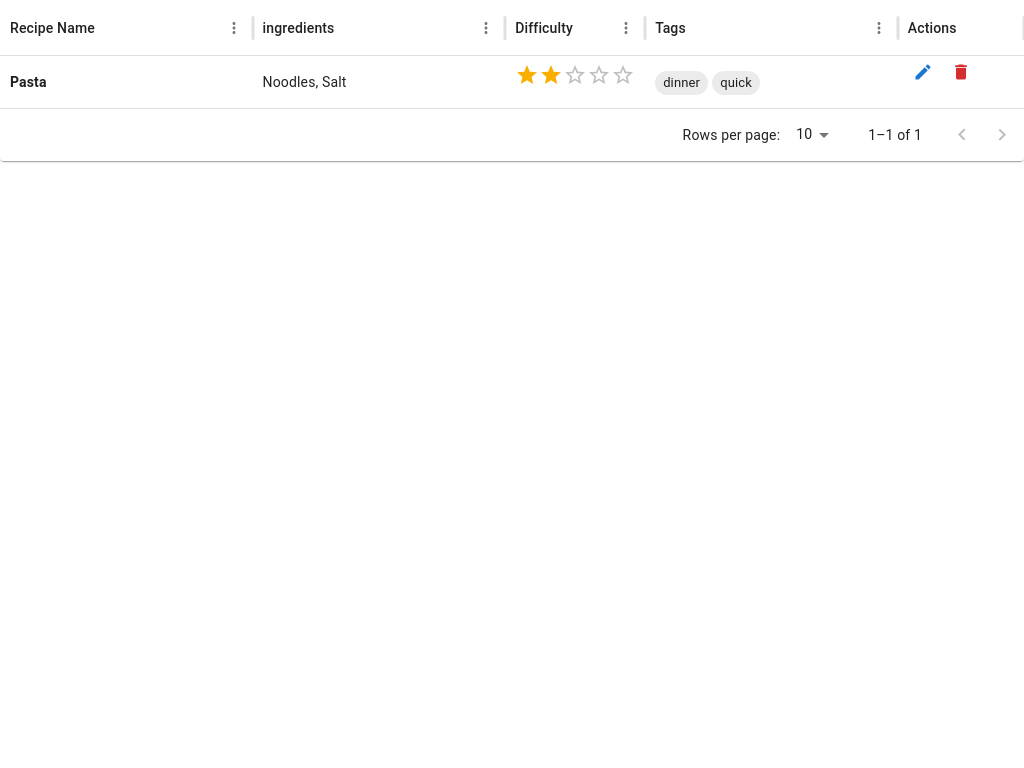
Test case: RecipeTable › delete › opens the confirmation dialog with the recipe name when delete is clicked
The width and height of the screenshot is (1024, 768).
Click the button named "delete" at (961, 72), box [946, 57, 976, 87]
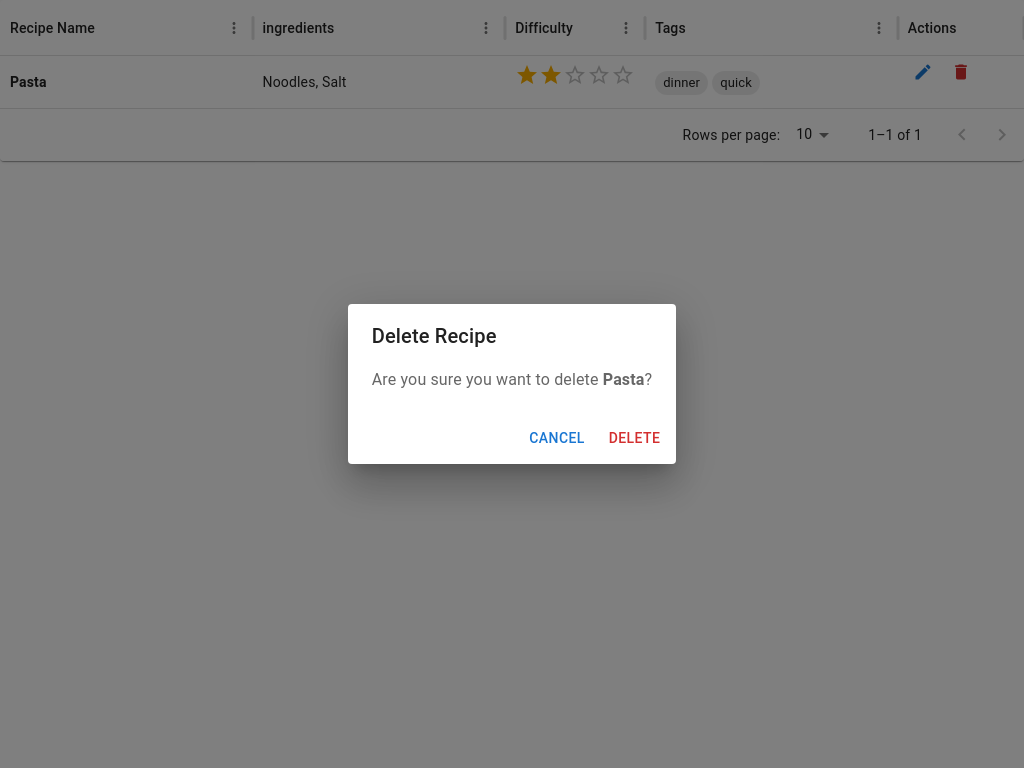
Expected: the heading "Delete Recipe" is shown, [372, 324, 496, 348]
Expected: the text "Are you sure you want to delete Pasta?" is shown, [372, 368, 652, 392]
Expected: the text "Pasta" is shown, [603, 370, 645, 389]
